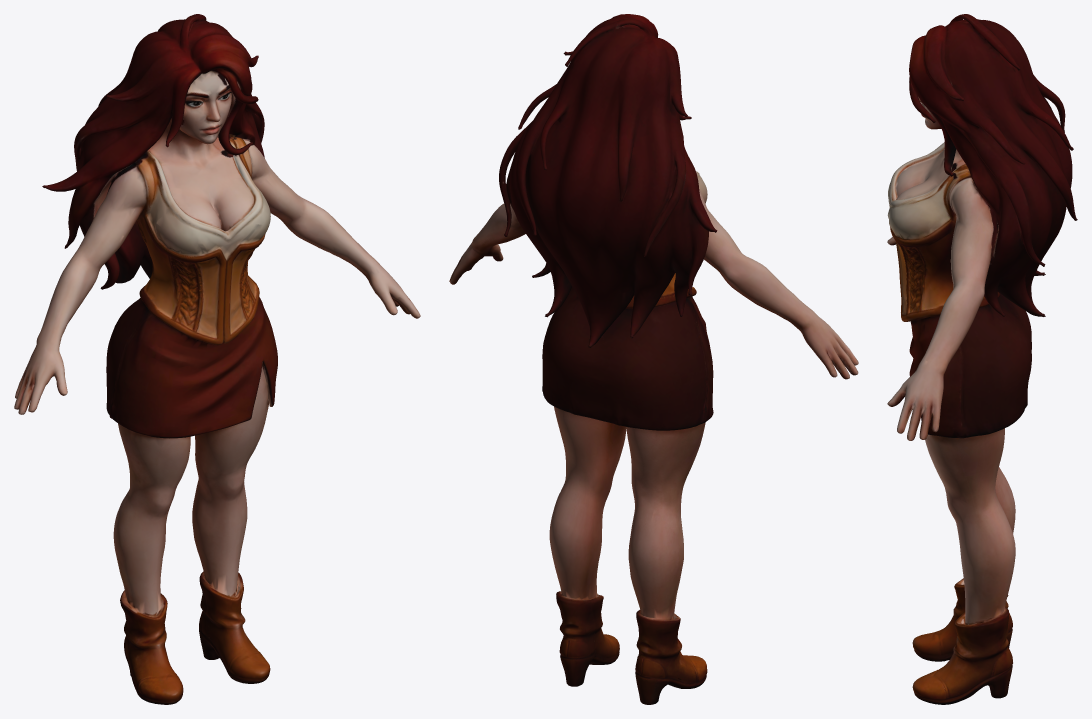
Rendered from female_villager.fbx.
3 views of the same model, side by side, from view 1: azimuth 30°, elevation 25°; view 2: azimuth 150°, elevation 25°; view 3: azimuth 270°, elevation 25° (orthographic).
Visible parts, largest first — view 1: tripo_node_b6cd0a9f; view 2: tripo_node_b6cd0a9f; view 3: tripo_node_b6cd0a9f.
Boxes of the visible parts, bbox=[...] form: tripo_node_b6cd0a9f: bbox=[14, 14, 420, 704]; tripo_node_b6cd0a9f: bbox=[449, 14, 858, 704]; tripo_node_b6cd0a9f: bbox=[887, 14, 1077, 704].
Bounding box in the file's own units: 62.4 × 25.54 × 97.96.
Materials: 1 (1 with a texture image).
